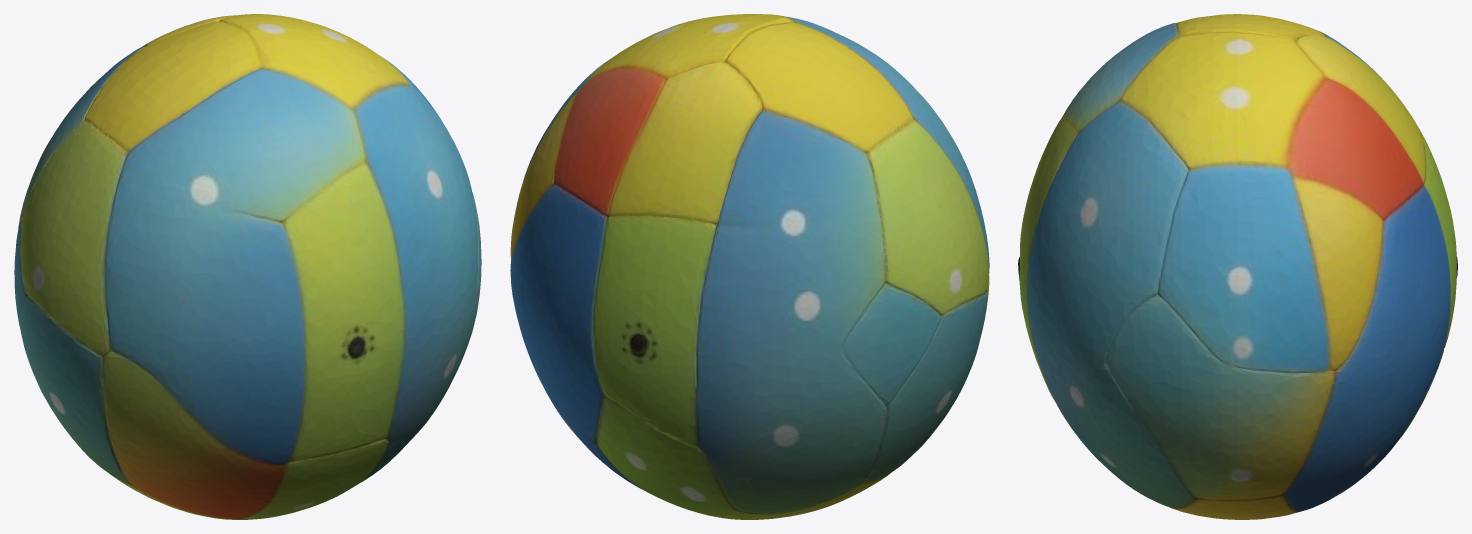
The model's file is ball.glb.
3 views of the same model, side by side, from view 1: azimuth 30°, elevation 25°; view 2: azimuth 150°, elevation 25°; view 3: azimuth 270°, elevation 25° (orthographic).
Visible parts, largest first — view 1: world; view 2: world; view 3: world.
Boxes of the visible parts, box(x1,y1,x2,y2) form: world: box(14, 14, 481, 519); world: box(510, 14, 989, 519); world: box(1018, 14, 1457, 519).
Bounding box in the file's own units: 0.933 × 0.9988 × 0.8472.
Materials: 1 (1 with a texture image).
